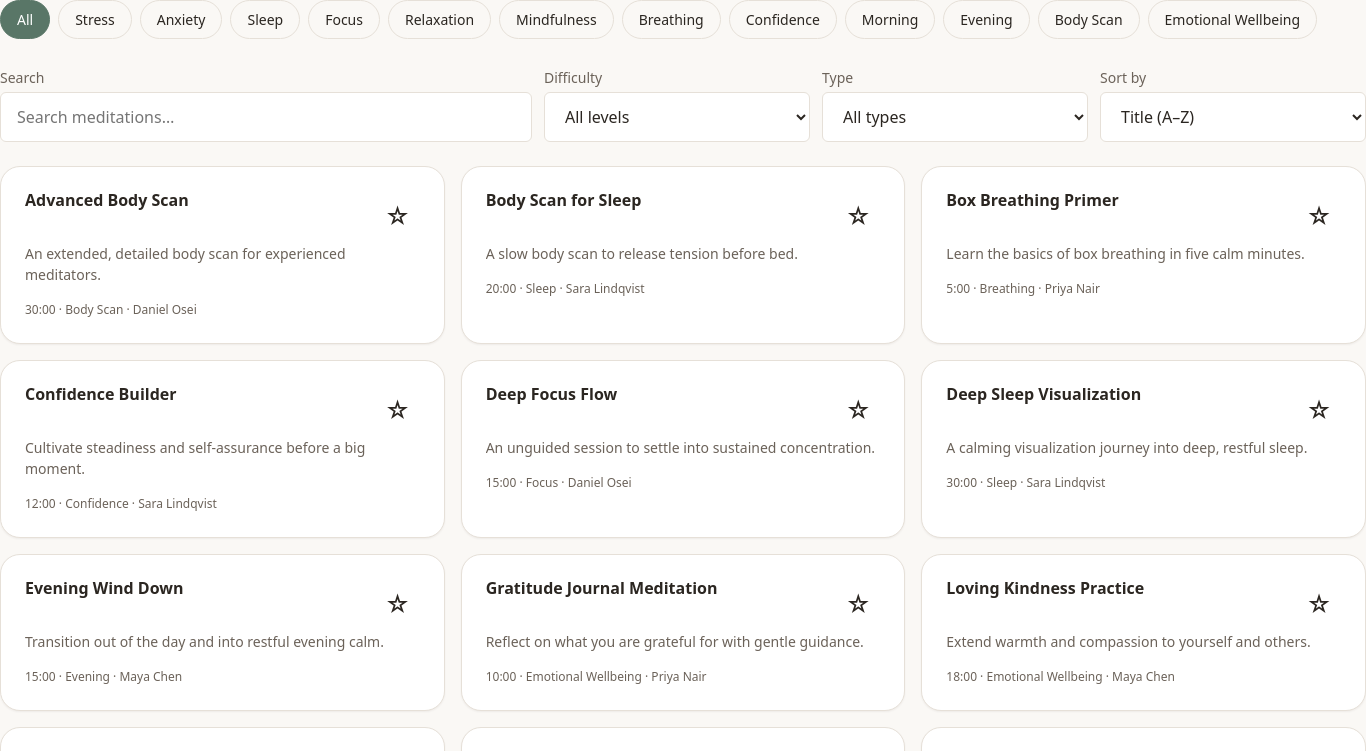
Scenario: LibraryBrowser › shows an empty state with a clear-filters action when nothing matches
In the search field labelled "Search": x=266, y=117 [0,92,532,142], type "zzz-nonexistent"
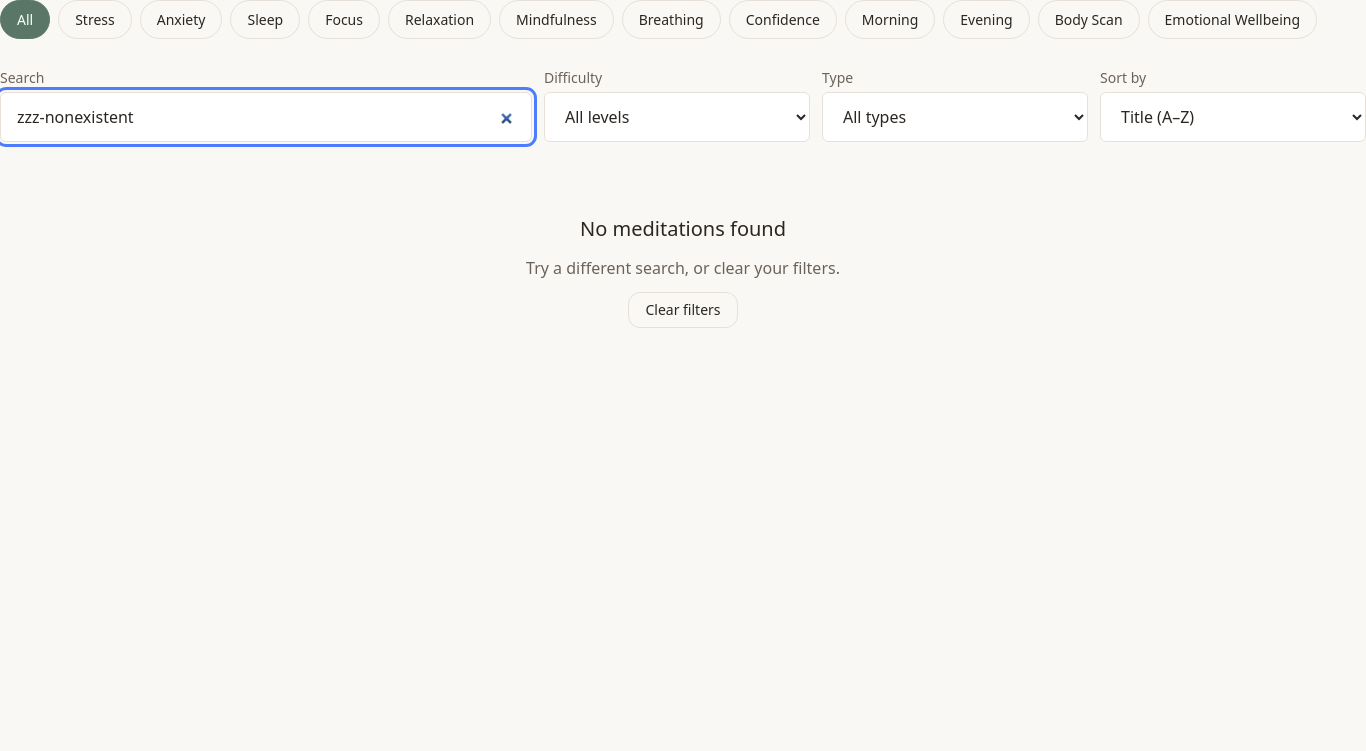
Result: the text "No meditations found" is shown at [580,214,786,244]
Click the button "Clear filters": x=683, y=310 [628,292,738,328]
(page scrolled)
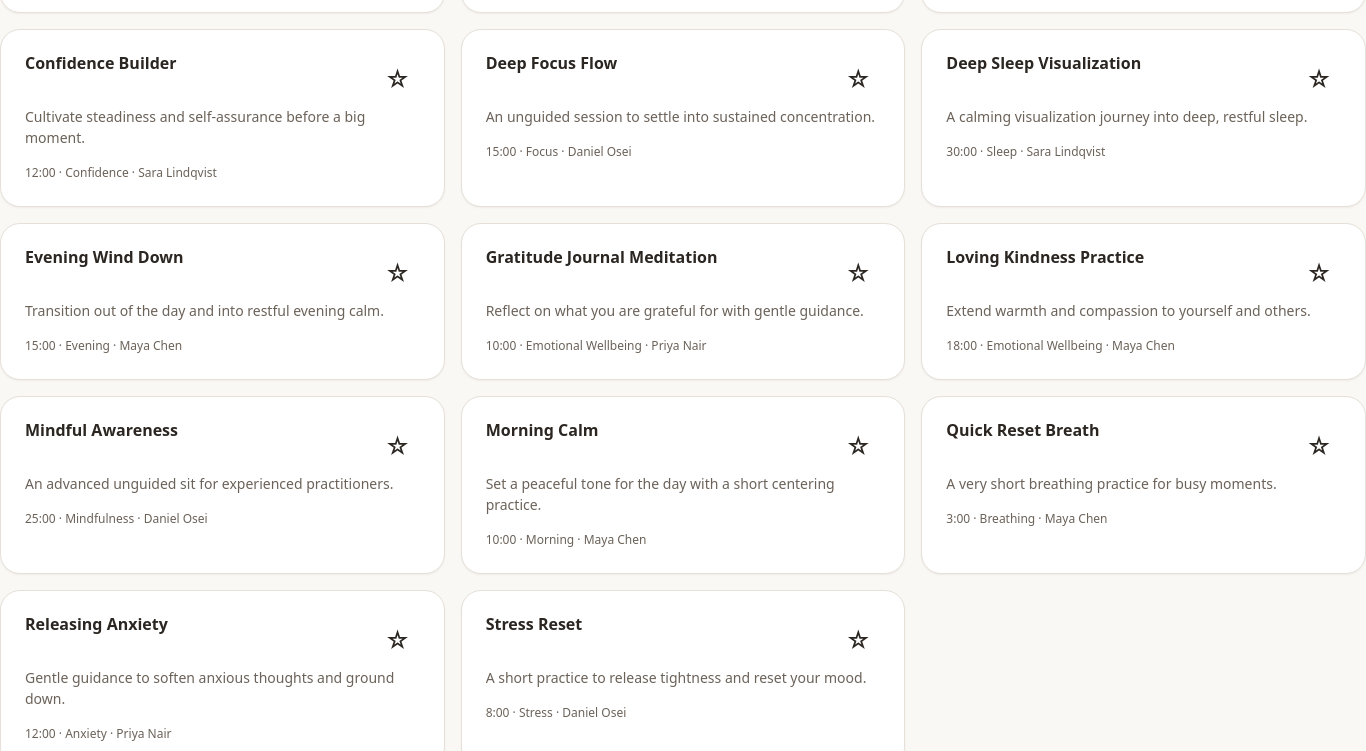
Result: the link "Morning Calm" is shown at [486,419,599,441]
